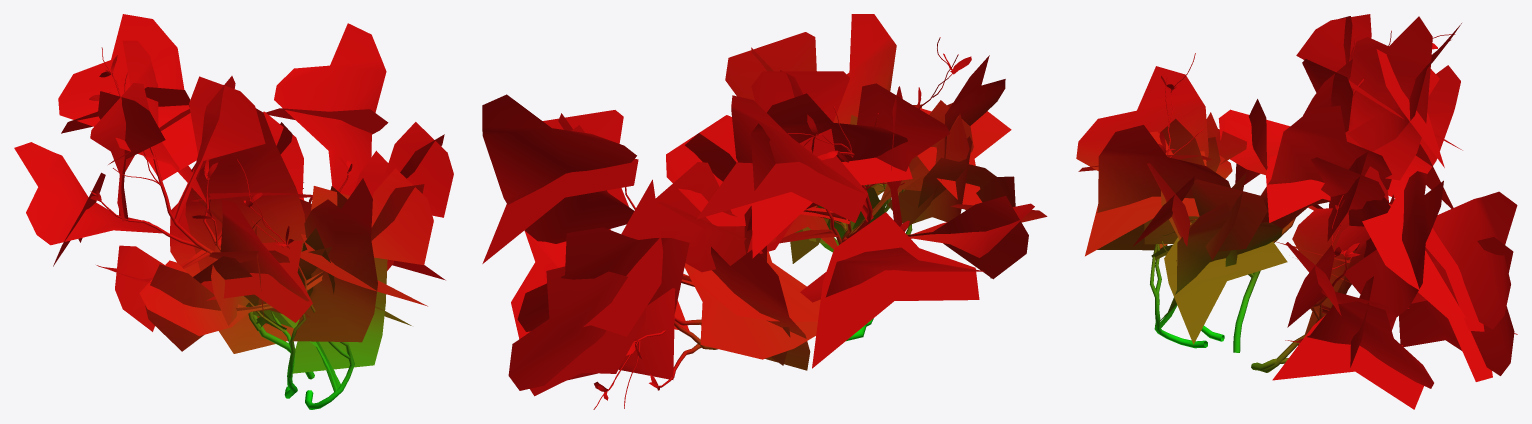
File: Downy Willow_LOD4_Var18_wknlfiuqx.fbx
3 views of the same model, side by side, from view 1: azimuth 30°, elevation 25°; view 2: azimuth 150°, elevation 25°; view 3: azimuth 270°, elevation 25° (orthographic). The views are drawn at different scales.
Parts seen in each view (by area): view 1: _5glu_Var18_LOD4; view 2: _5glu_Var18_LOD4; view 3: _5glu_Var18_LOD4.
Part boxes in pixels (bbox=[...]): _5glu_Var18_LOD4: bbox=[14, 14, 453, 409]; _5glu_Var18_LOD4: bbox=[482, 14, 1047, 409]; _5glu_Var18_LOD4: bbox=[1076, 14, 1517, 409].
Size of the model in its own units: 123 by 90.86 by 121.
